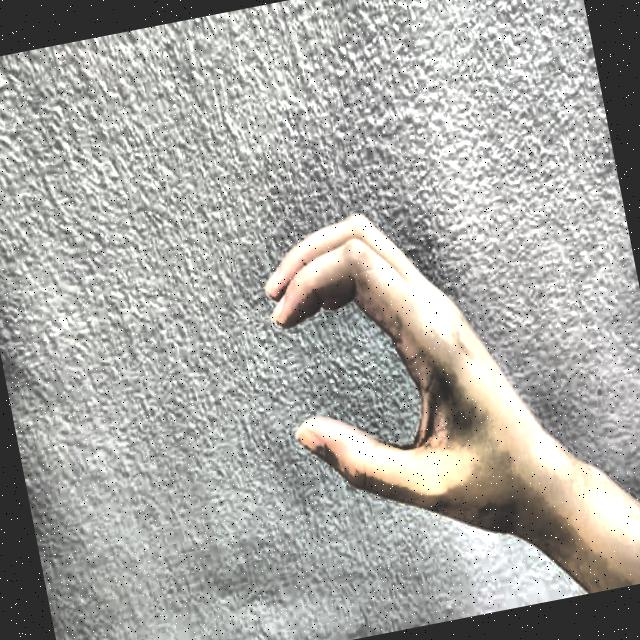A: (211, 157, 527, 598)
